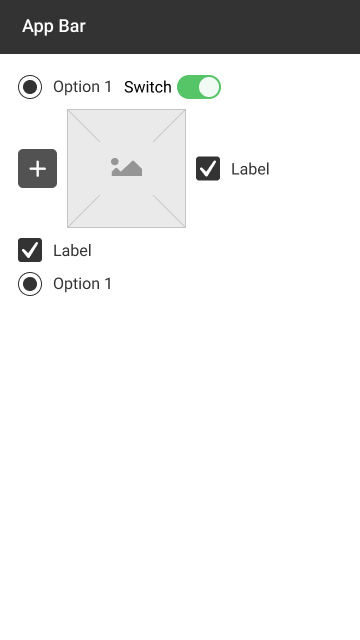buttonIcon: (15, 146, 60, 191)
checkBox: (194, 154, 271, 184), (16, 235, 92, 264)
imageView: (64, 105, 189, 232)
radioButton: (17, 271, 113, 297), (14, 75, 112, 99)
switch: (122, 76, 222, 99)
toolbar: (3, 1, 359, 55)
